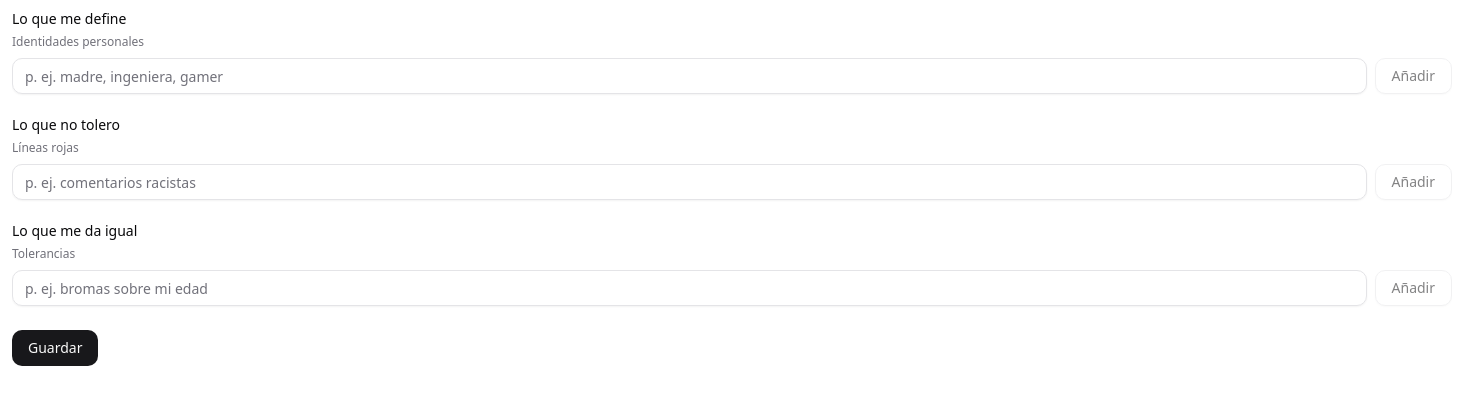
Scenario: PersonaForm › adds a new entry to a field and clears the input
In the field labelled "Lo que me define": (689, 76) x1=12 y1=58 x2=1366 y2=94, type "gamer"
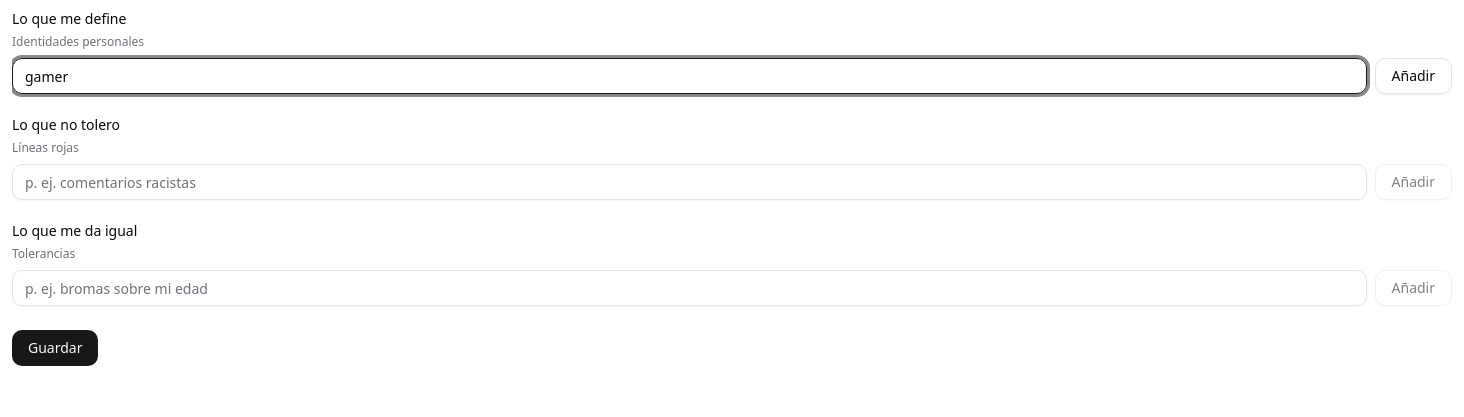
Click the 1st button "Añadir": (1413, 76) x1=1374 y1=58 x2=1452 y2=94
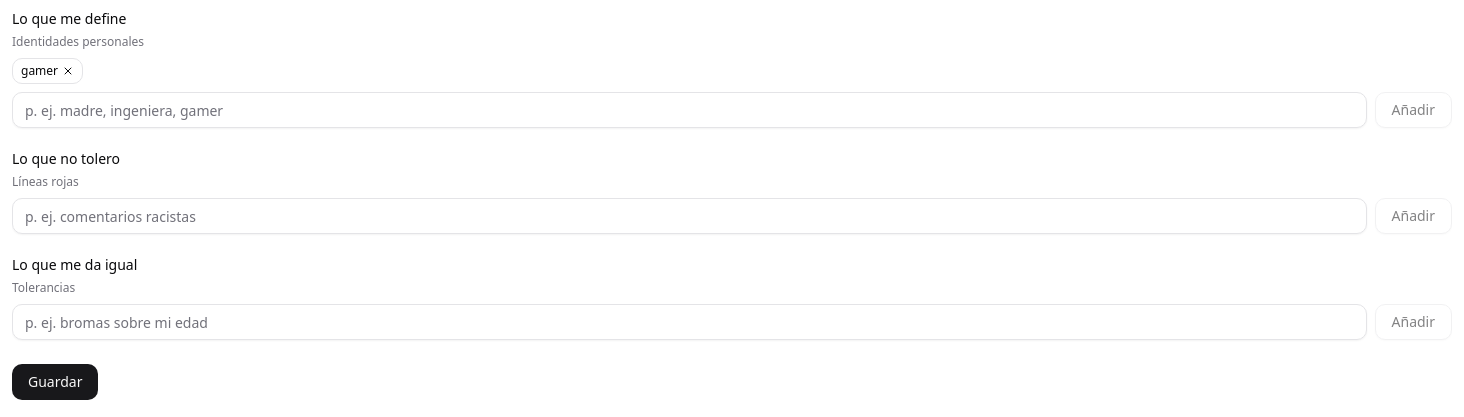
Expected: the text "gamer" is shown, x1=12 y1=58 x2=83 y2=84
Expected: the field labelled "Lo que me define" is empty, x1=12 y1=92 x2=1366 y2=128
